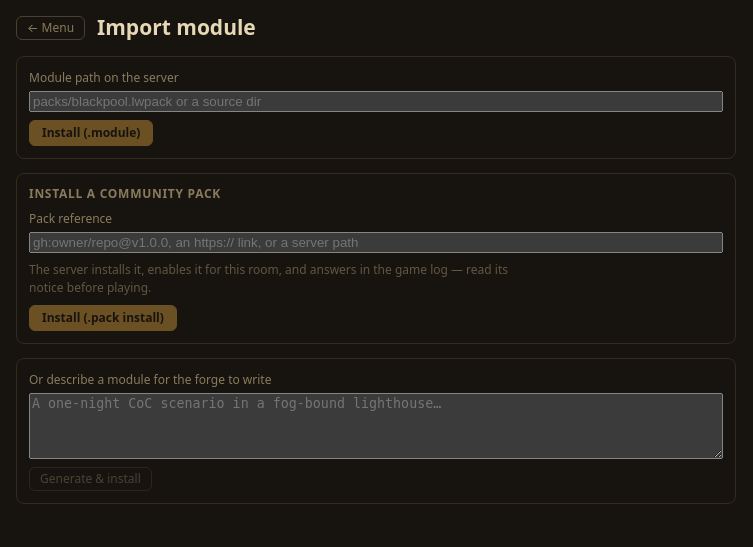
Test: ModuleScreen — community packs › says the pack went out only once the send has actually resolved
The width and height of the screenshot is (753, 547).
Type "gh:1A7432/antu@v1.0.0" into the field labelled "Pack reference". click: (376, 243)
box: x1=29 y1=232 x2=723 y2=253
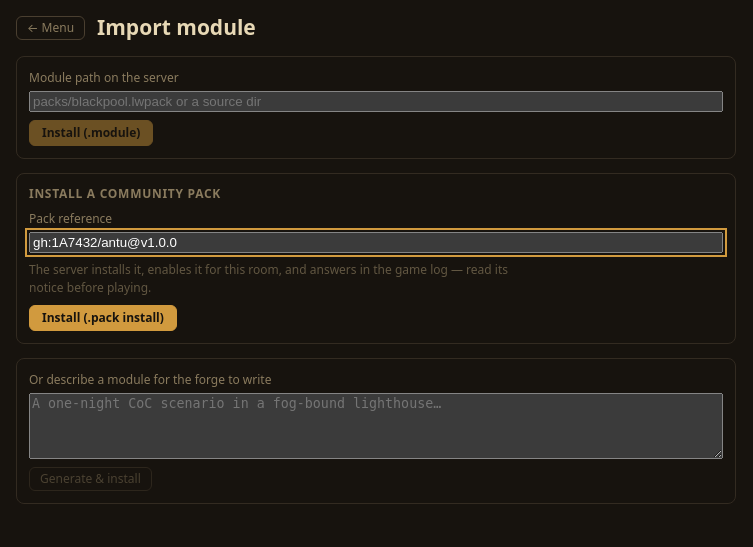
Click the button "Install (.pack install)". click: (103, 318)
box: x1=29 y1=305 x2=177 y2=331
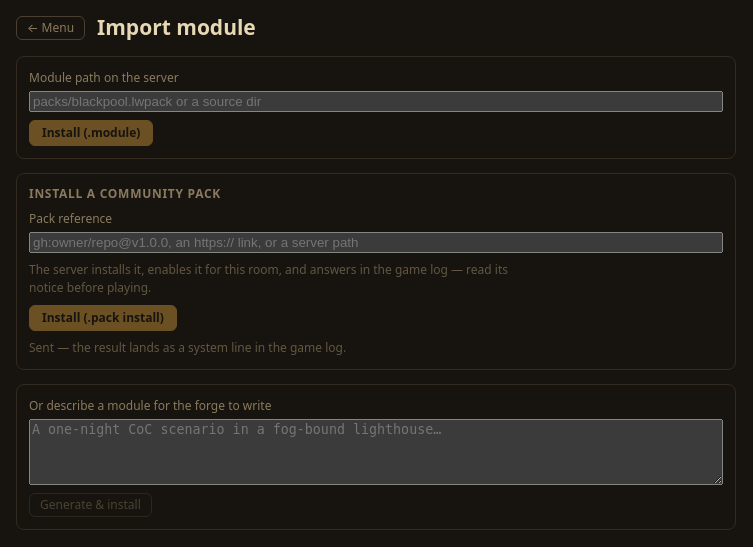
Result: the text "Sent — the result lands as a system line in the game log." is shown at x1=29 y1=339 x2=346 y2=357
